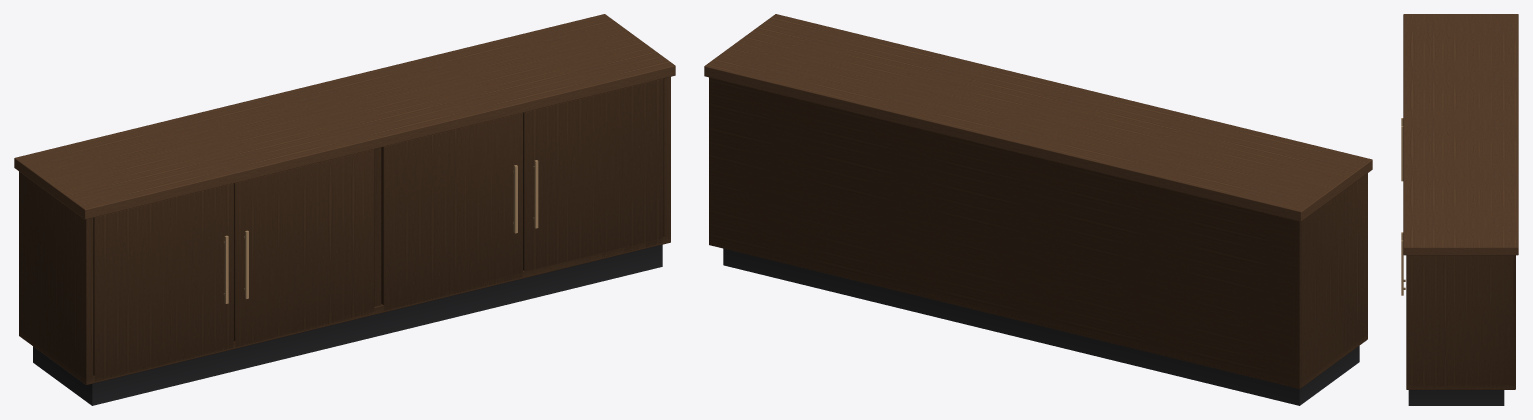
Rendered from library_credenza.gltf.
The picture shows the model from 3 angles, left to right: view 1: azimuth 30°, elevation 25°; view 2: azimuth 150°, elevation 25°; view 3: azimuth 270°, elevation 25°; orthographic projection. The views are drawn at different scales.
Parts seen in each view (by area): view 1: LibraryCredenza_Wood, LibraryCredenza_Plinth, LibraryCredenza_Pulls; view 2: LibraryCredenza_Wood, LibraryCredenza_Plinth; view 3: LibraryCredenza_Wood, LibraryCredenza_Plinth, LibraryCredenza_Pulls.
Part boxes in pixels (x1,y1,x2,y2): LibraryCredenza_Wood: (14, 14, 675, 384); LibraryCredenza_Plinth: (33, 244, 662, 405); LibraryCredenza_Pulls: (223, 160, 538, 303); LibraryCredenza_Wood: (704, 14, 1372, 388); LibraryCredenza_Plinth: (723, 248, 1359, 405); LibraryCredenza_Wood: (1403, 14, 1518, 389); LibraryCredenza_Plinth: (1408, 390, 1504, 405); LibraryCredenza_Pulls: (1401, 118, 1405, 295).
Size of the model in its own units: 2.4 by 0.78 by 0.509.
Materials: 3 (1 with a texture image).
